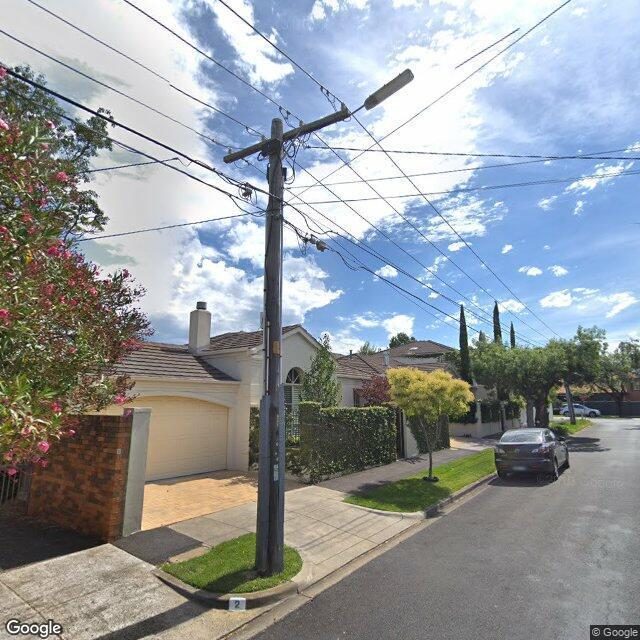crossarm: (224, 109, 350, 163)
streetlight: (349, 68, 415, 116)
timber-pole: (256, 119, 284, 576)
